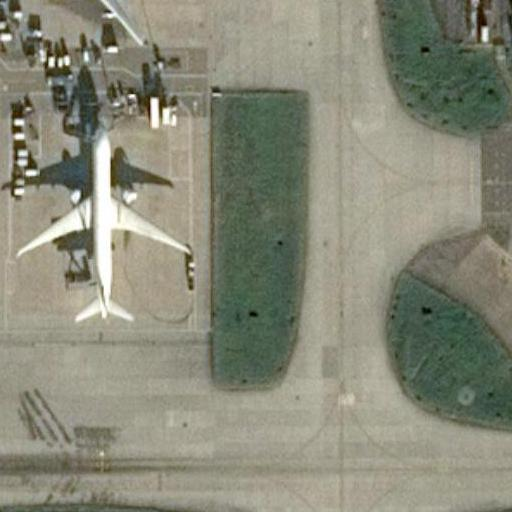Aircraft: (13, 123, 189, 324), (17, 120, 188, 324), (6, 0, 205, 49), (9, 0, 205, 46)
